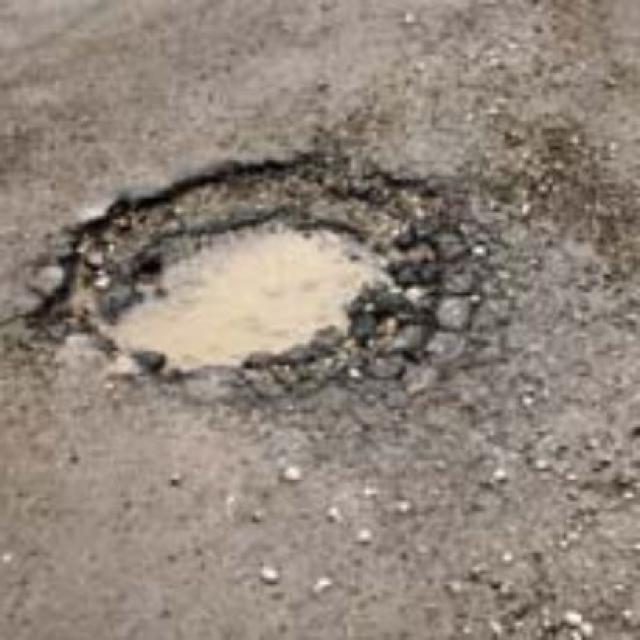Pothole: (25, 149, 484, 387)
